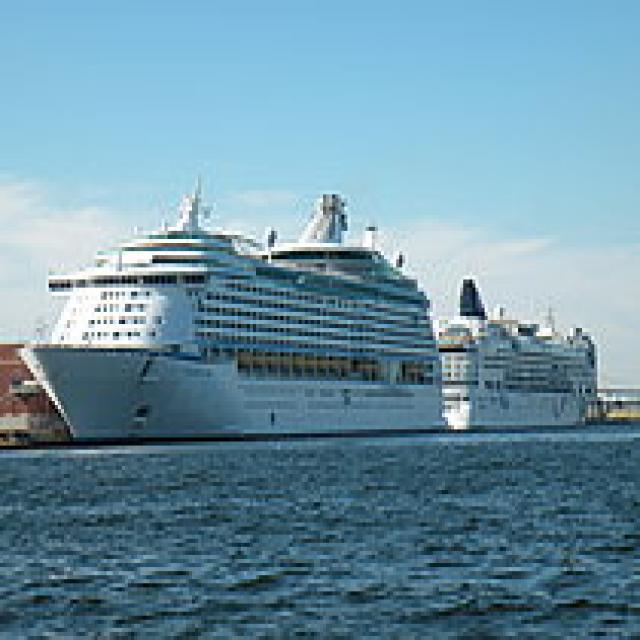Ship: (19, 179, 461, 455), (431, 269, 605, 439)
